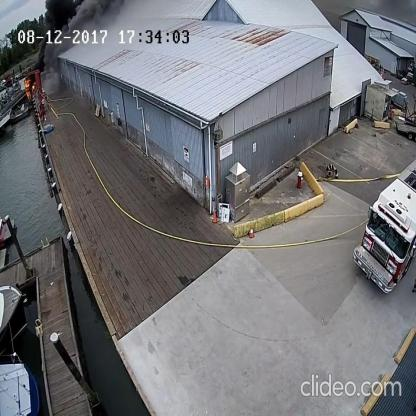fire: (23, 76, 32, 102)
